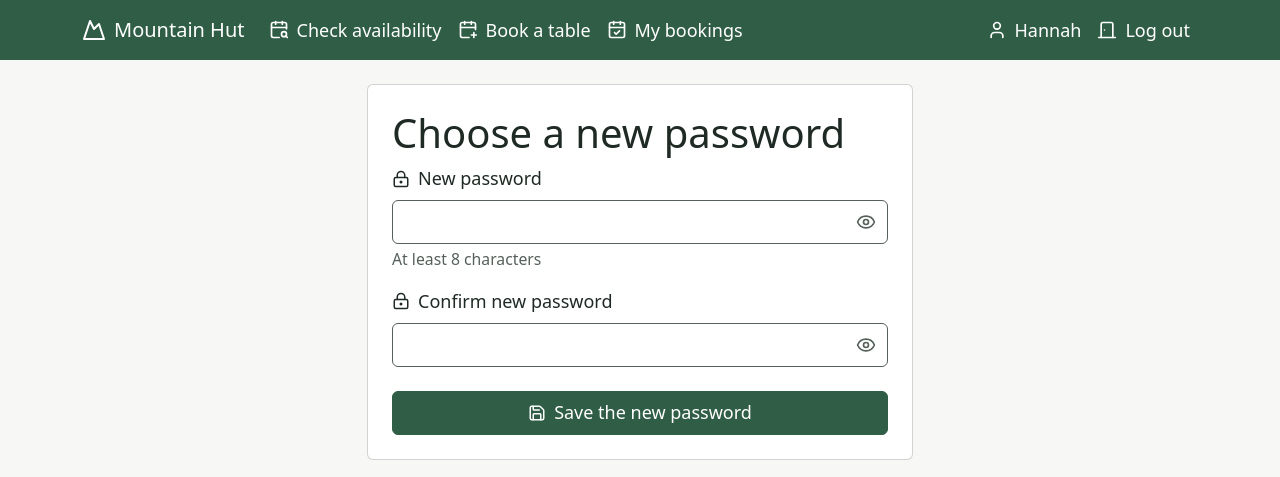
Test case: ResetPasswordPage › success › if /me cannot be reached after the reset: the success stays, the user is kept and the error is shown
Expected: the text "Hannah" is shown, [986,18,1081,42]
Type "my-own-secret-pw" into the password field labelled "New password" at {"x": 640, "y": 222}, box [392,200,888,244]
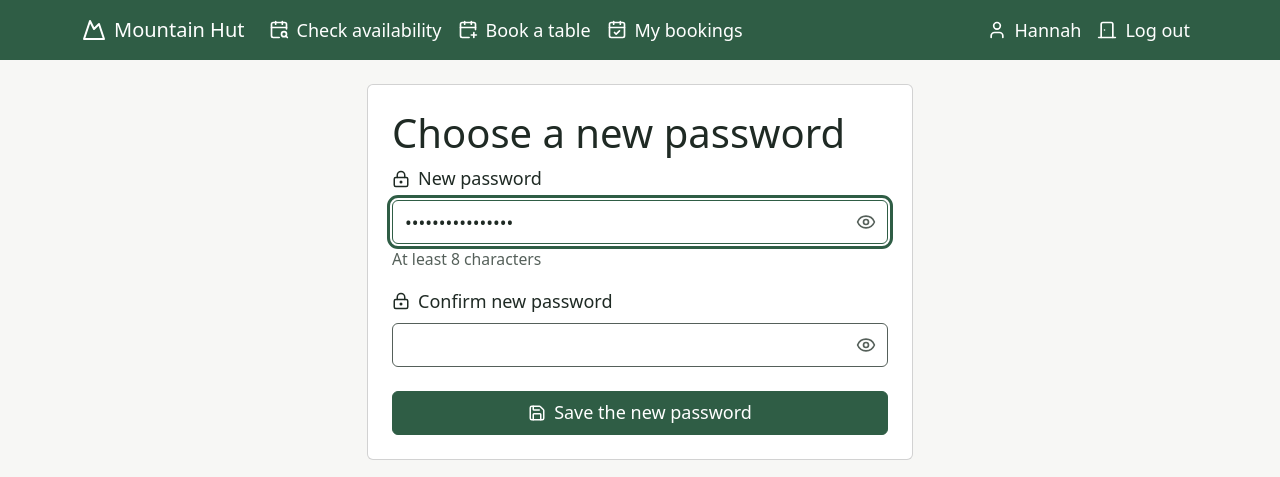
Type "my-own-secret-pw" into the password field labelled "Confirm new password" at {"x": 640, "y": 345}, box [392,323,888,367]
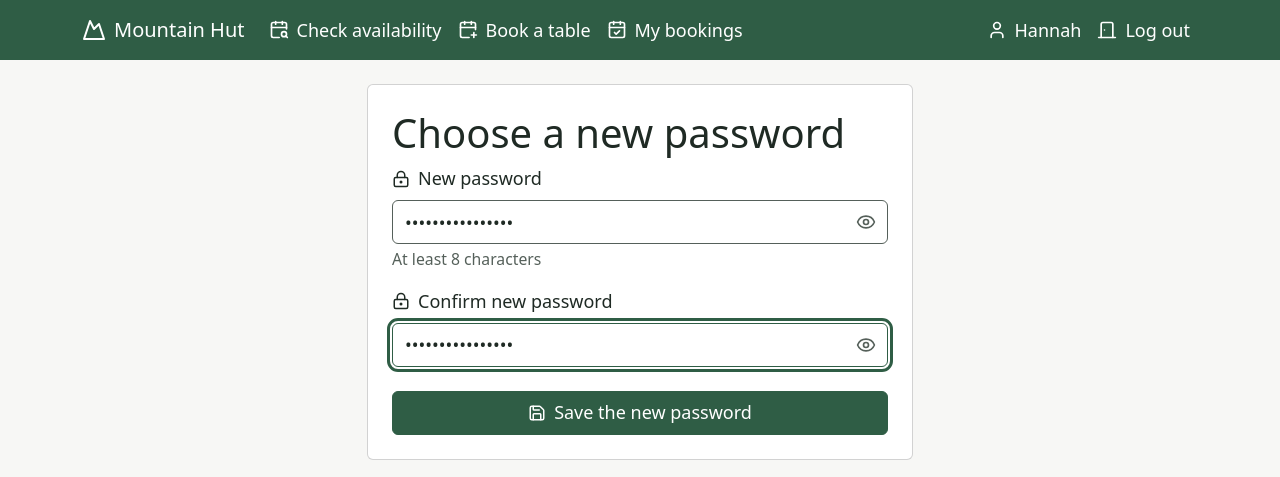
Click the button "Save the new password" at {"x": 640, "y": 413}, box [392,391,888,435]
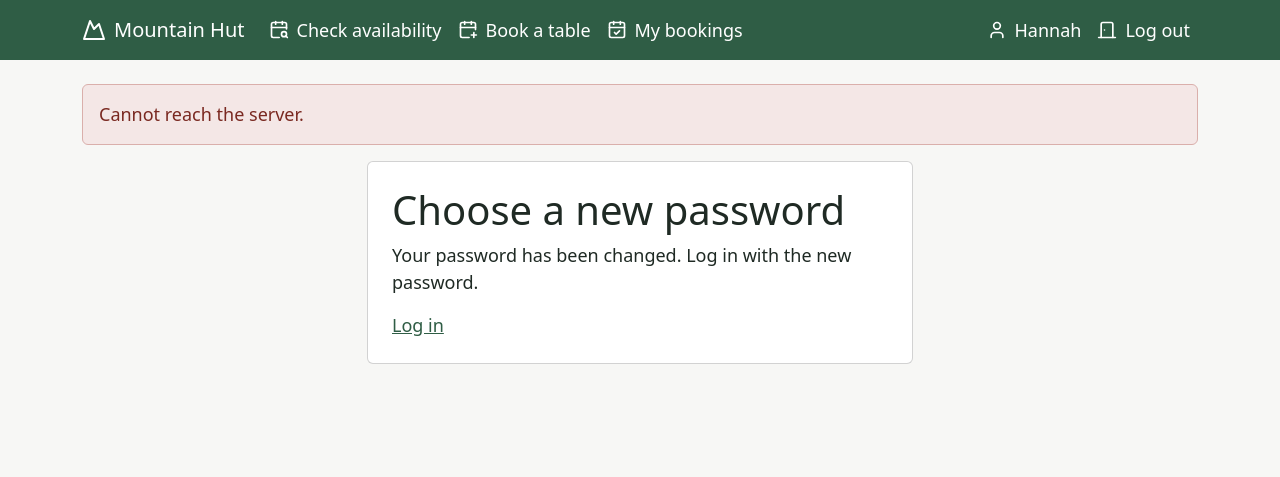
Expected: the text "Hannah" is shown, [986,18,1081,42]
Expected: the message "Cannot reach the server." is shown, [82,84,1198,145]
Expected: the message "Your password has been changed. Log in with the new password." is shown, [392,242,888,296]
